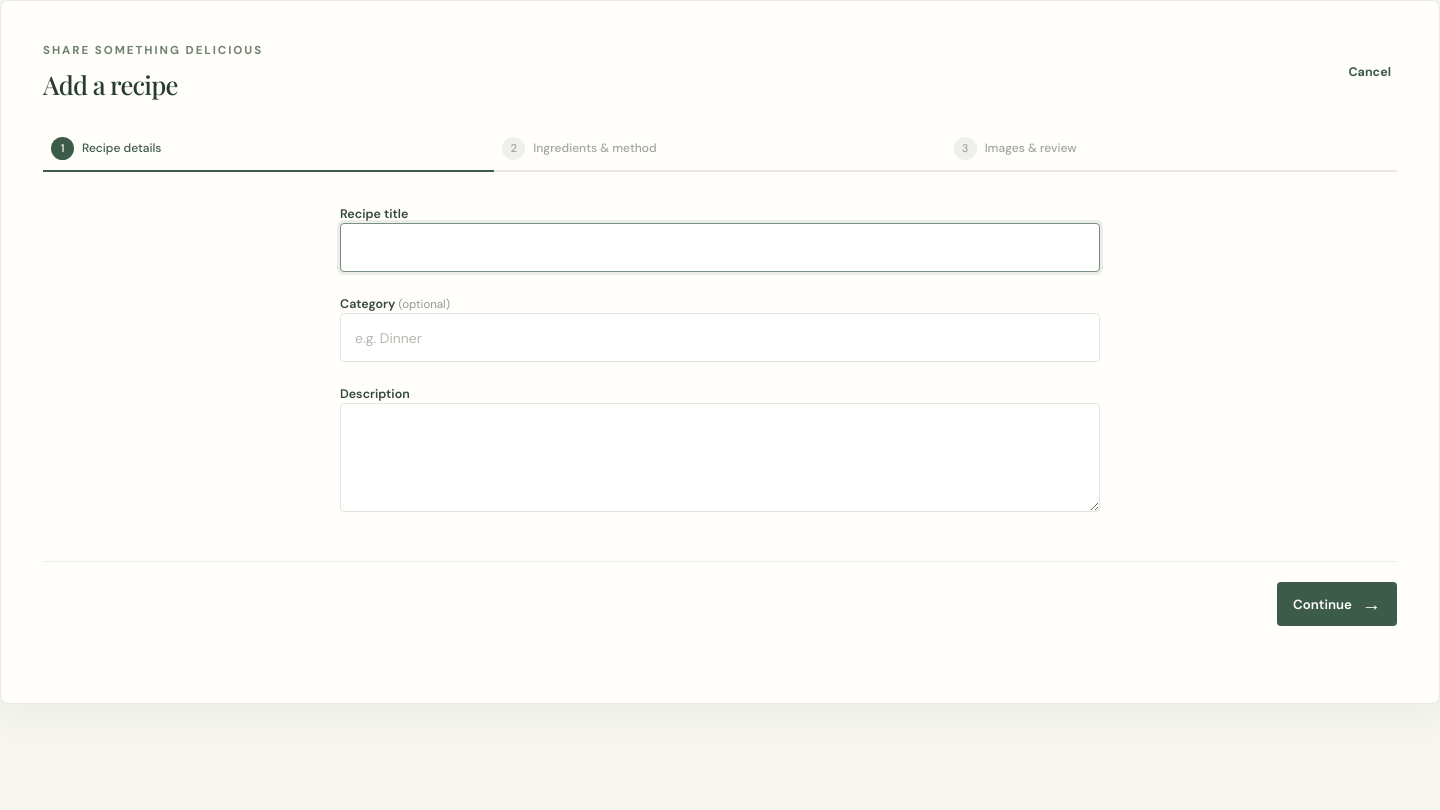
Test: recipe editor stage navigation › lets users click Images & review while validating prior stages and focusing errors
Click the button "3 Images & review".
click(1031, 148)  # box [946, 126, 1397, 170]
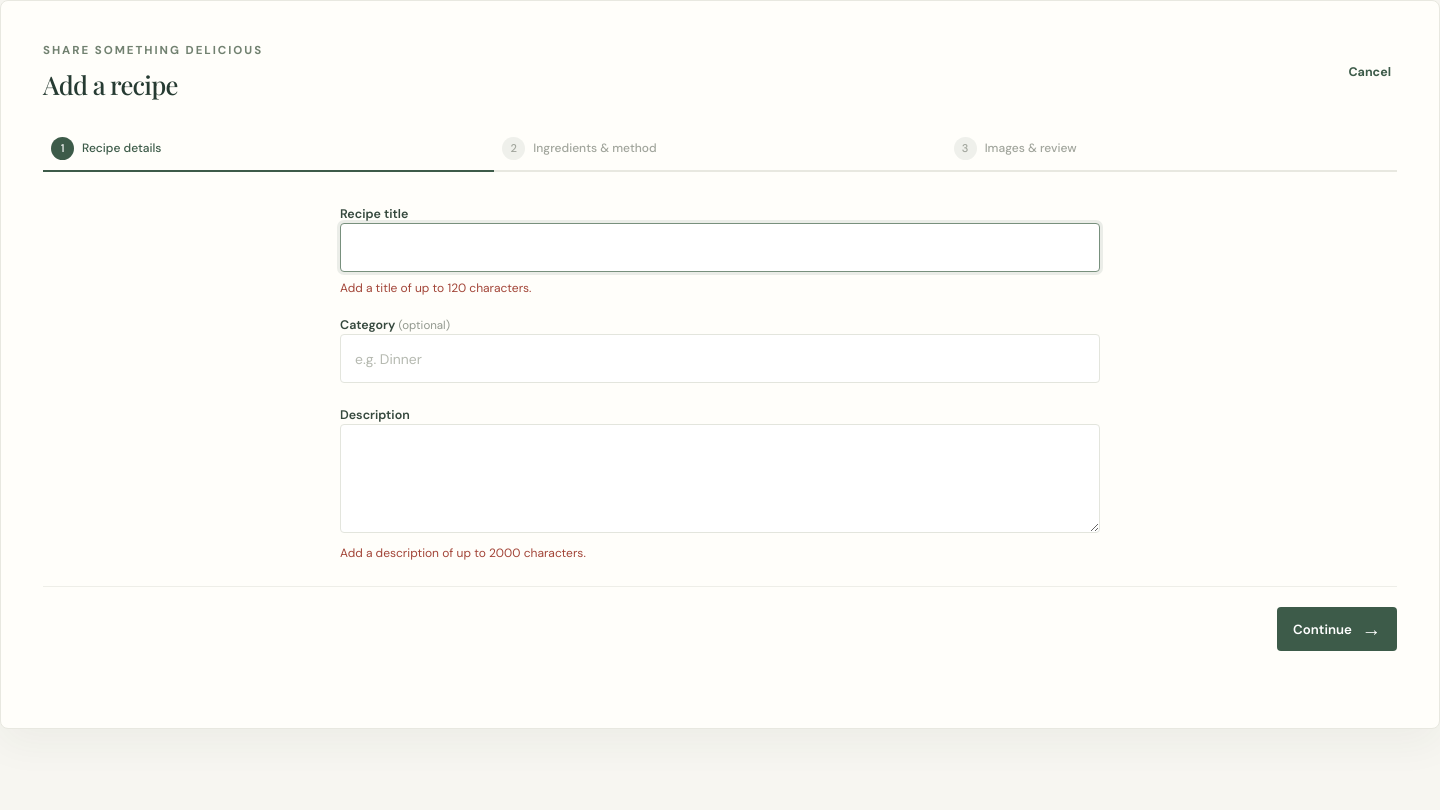
Expected: the field labelled "recipe images" is not shown
Expected: the text "Add a title of up to 120 characters." is shown, [340, 280, 532, 296]
Type "Garden soup" into the field labelled "Recipe title".
click(720, 248); type("Garden soup")  # box [340, 223, 1100, 272]
Type "A bright bowl." into the text box labelled "Description".
click(720, 479); type("A bright bowl.")  # box [340, 424, 1100, 533]
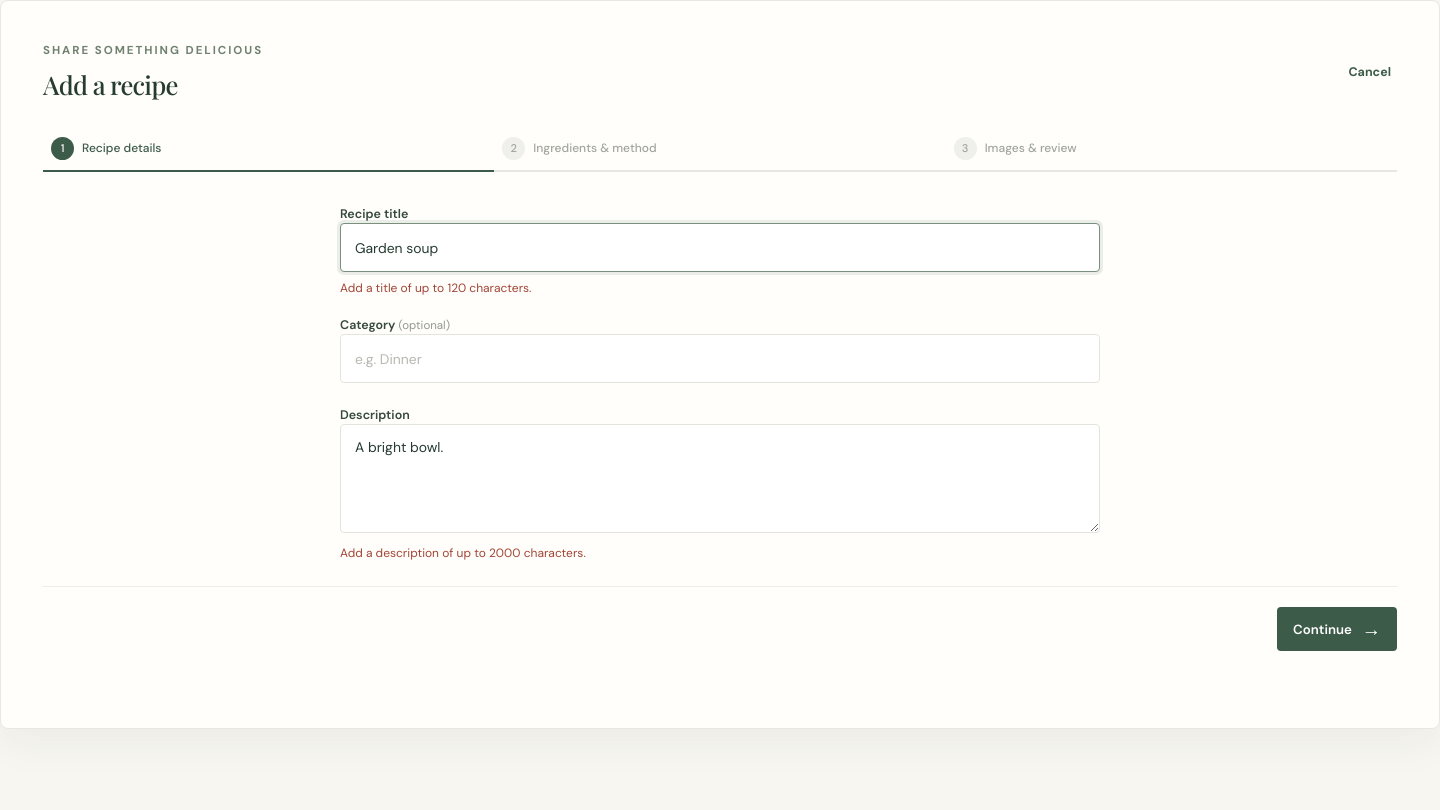
Click the button "3 Images & review".
click(1031, 148)  # box [946, 126, 1397, 170]
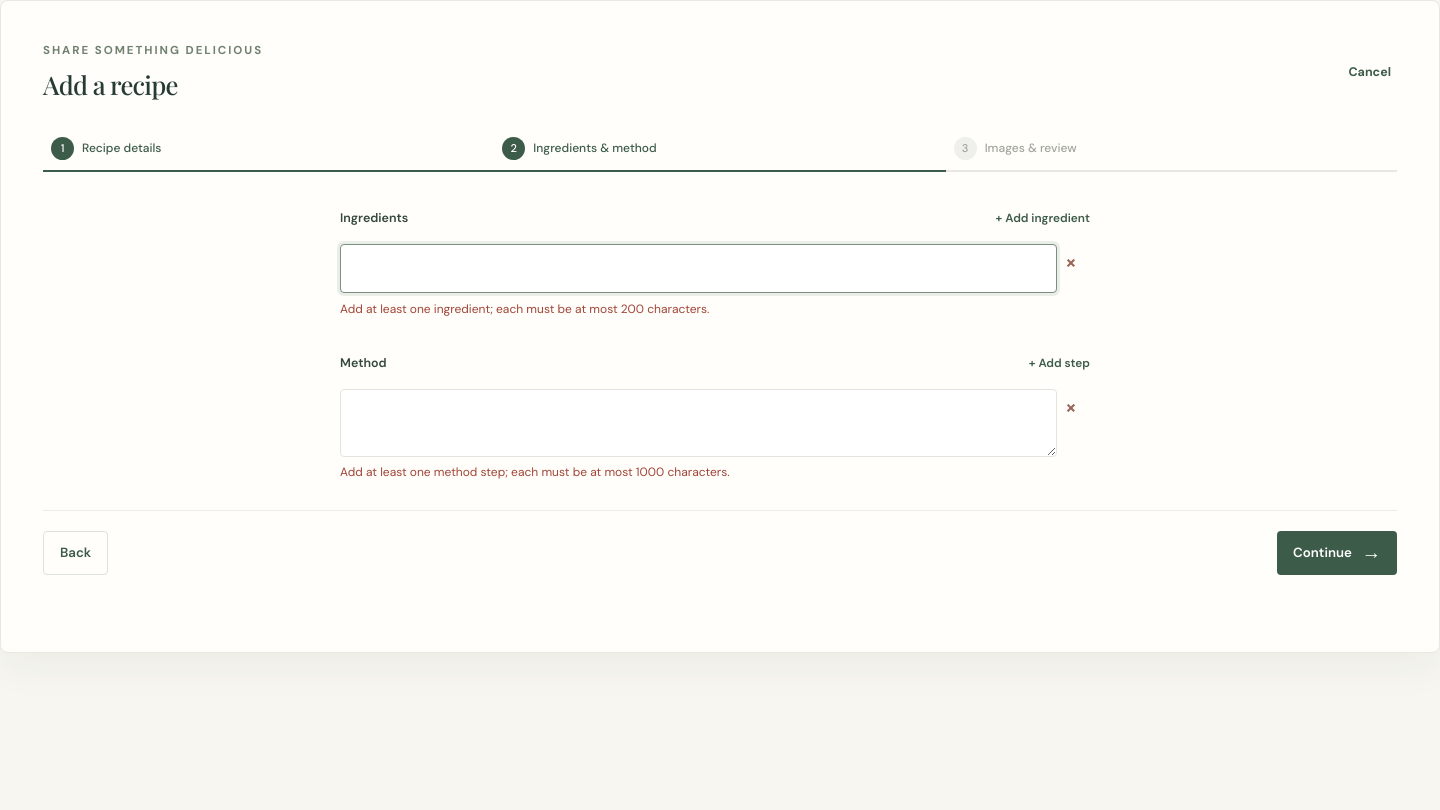
Expected: the field labelled "recipe images" is not shown
Expected: the text "Add at least one ingredient; each must be at most 200 characters." is shown, [340, 301, 709, 317]
Type "Tomatoes" into the field named "Ingredient 1".
click(698, 268); type("Tomatoes")  # box [340, 244, 1057, 293]
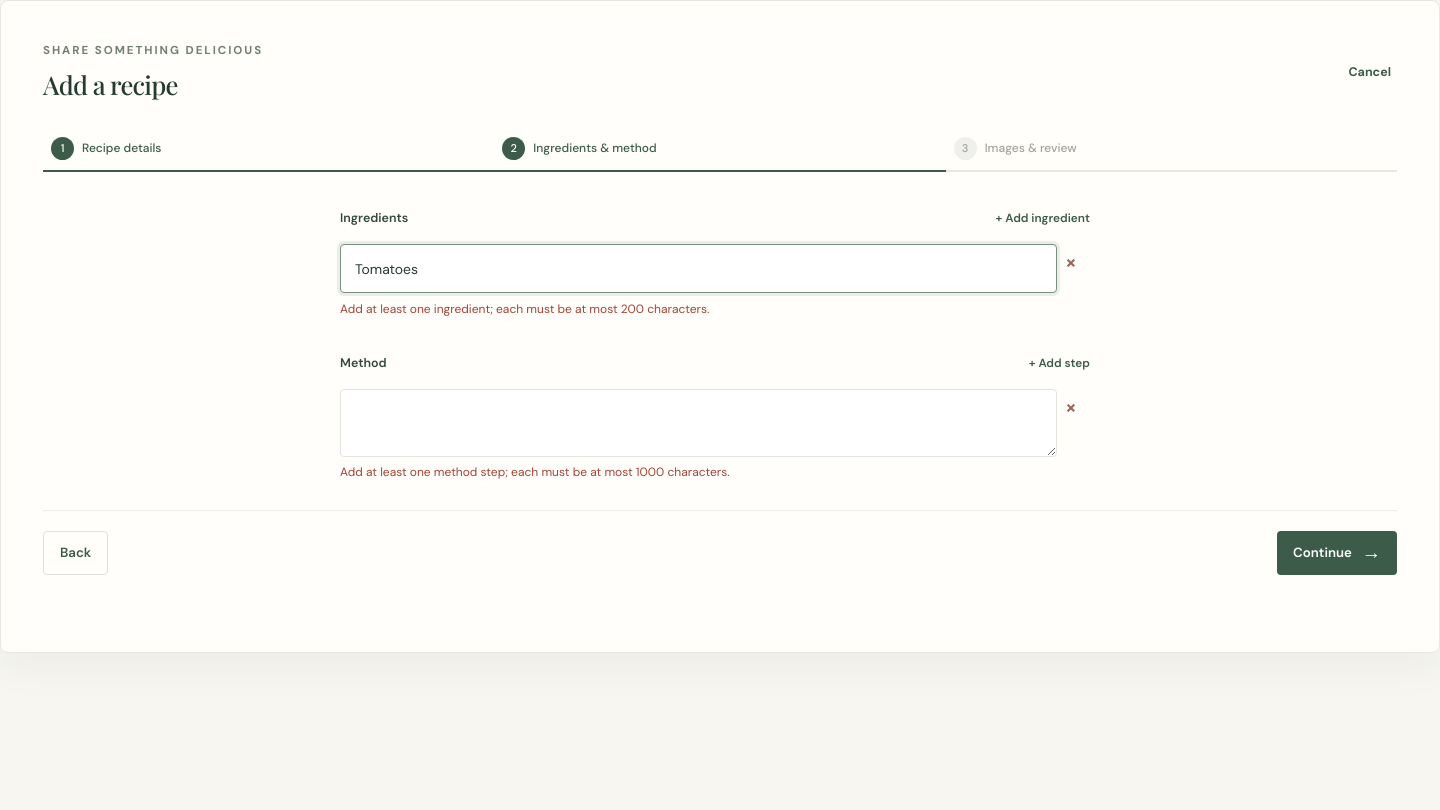
Type "Simmer gently." into the text box named "Step 1".
click(698, 423); type("Simmer gently.")  # box [340, 389, 1057, 457]
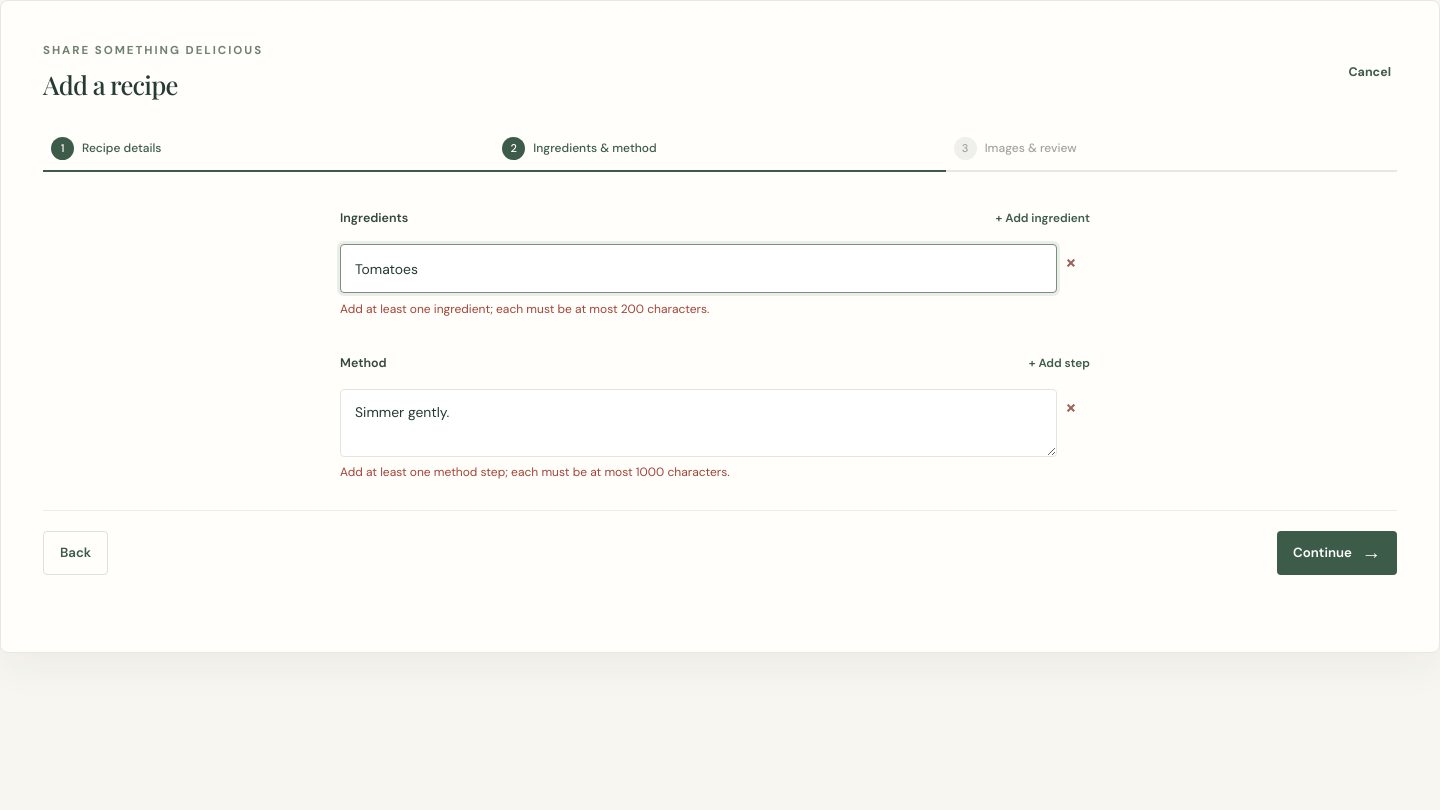
Click the button "3 Images & review".
click(1031, 148)  # box [946, 126, 1397, 170]
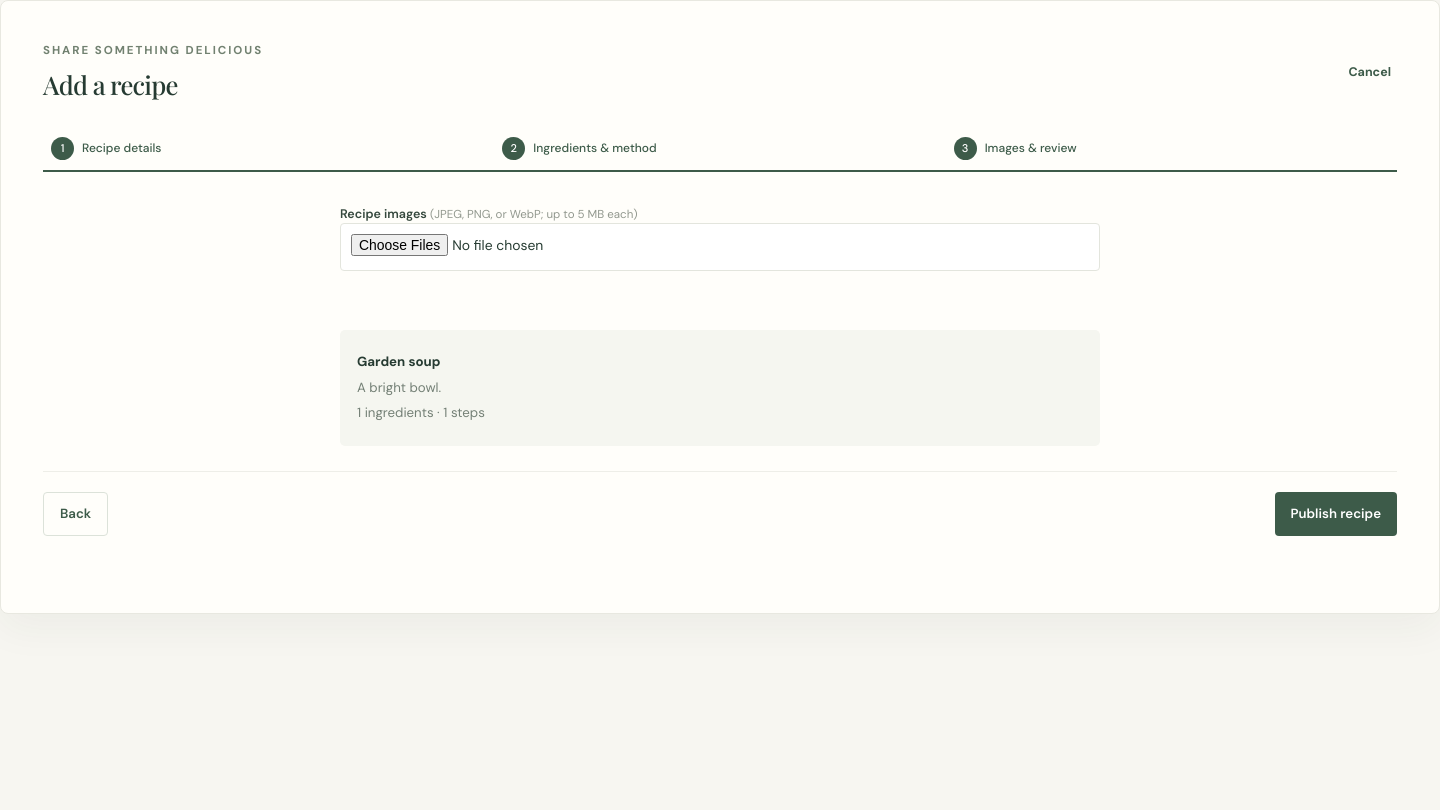
Expected: the file field labelled "Recipe images (JPEG, PNG, or WebP; up to 5 MB each)" is shown, [340, 223, 1100, 271]
